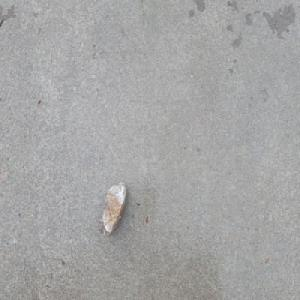Rock: (101, 178, 128, 234)
